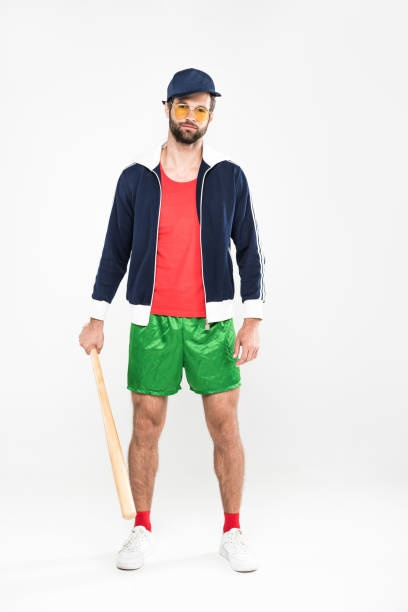bita: (81, 337, 138, 515)
